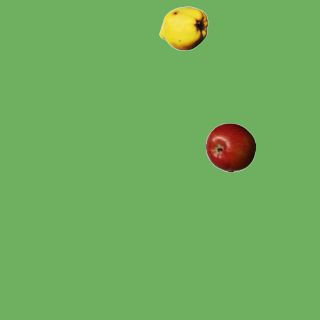Apple Braeburn: (205, 122, 255, 172)
Quince: (158, 3, 208, 53)
